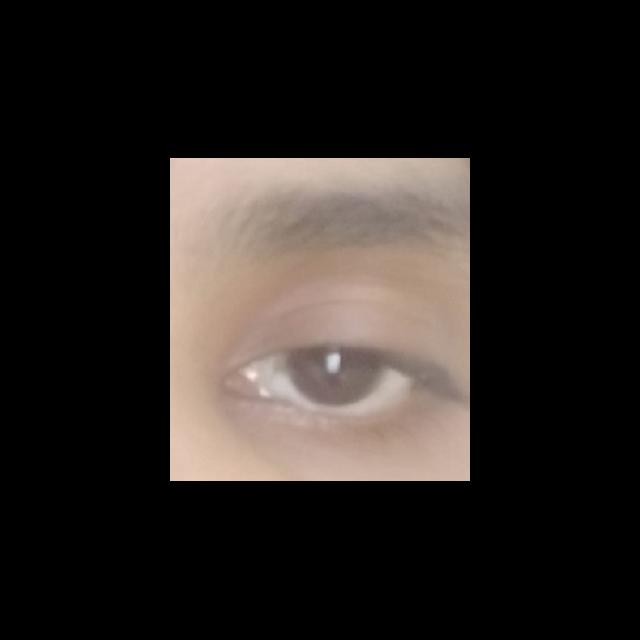eye: (255, 348, 411, 417)
iris: (287, 352, 385, 406)
